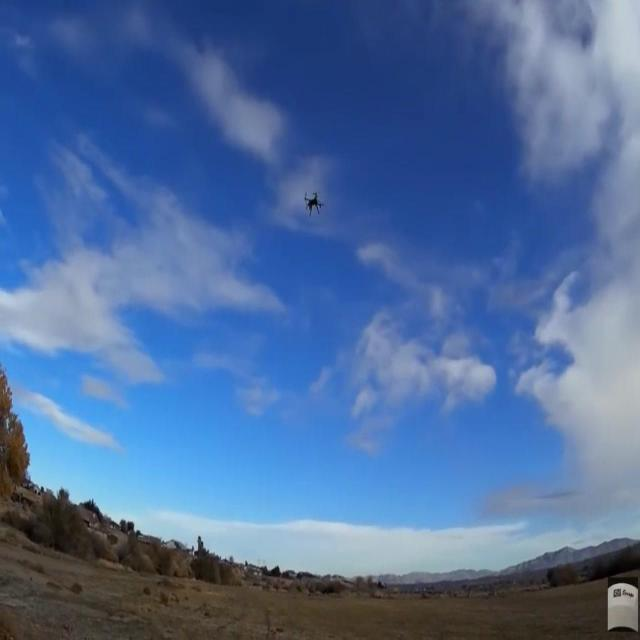UAV: (302, 187, 324, 217)
